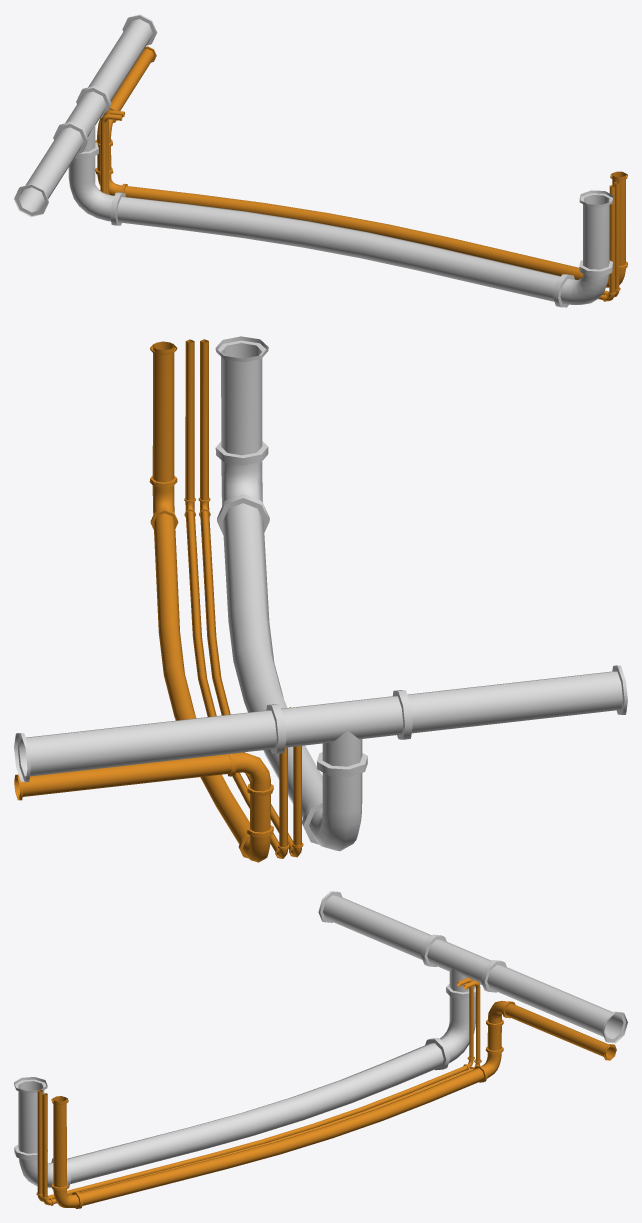
File: SM_H_Building_Tide_Waterway_09_ATLAS.fbx
3 views of the same model, one above another, from view 1: azimuth 30°, elevation 25°; view 2: azimuth 150°, elevation 25°; view 3: azimuth 270°, elevation 25° (orthographic). The views are drawn at different scales.
Parts seen in each view (by area): view 1: SM_H_Building_Tide_Waterway_09_ATLAS; view 2: SM_H_Building_Tide_Waterway_09_ATLAS; view 3: SM_H_Building_Tide_Waterway_09_ATLAS.
Boxes of the visible parts, left/top/right/bottom form: SM_H_Building_Tide_Waterway_09_ATLAS: left=14, top=14, right=627, bottom=307; SM_H_Building_Tide_Waterway_09_ATLAS: left=14, top=336, right=627, bottom=862; SM_H_Building_Tide_Waterway_09_ATLAS: left=14, top=891, right=627, bottom=1208.
Size of the model in its own units: 1424 by 1679 by 349.
